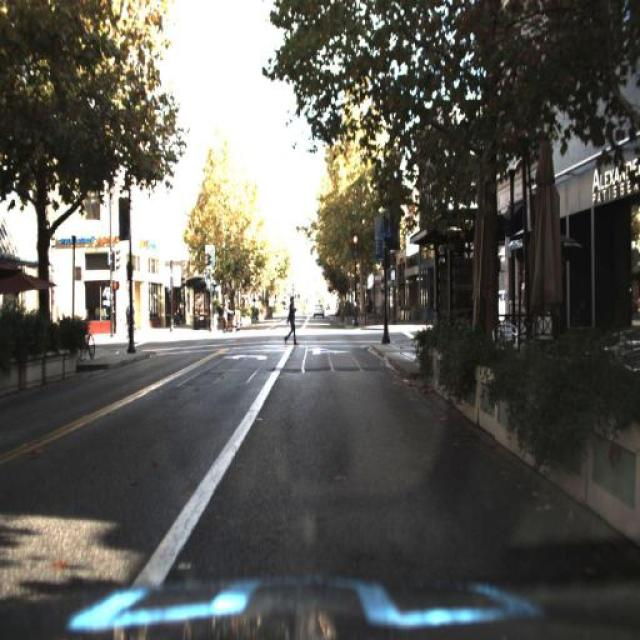trafficLight: (218, 299, 243, 336), (285, 290, 299, 336), (124, 302, 138, 341)
trafficLight-RedLeft: (352, 223, 362, 261)
